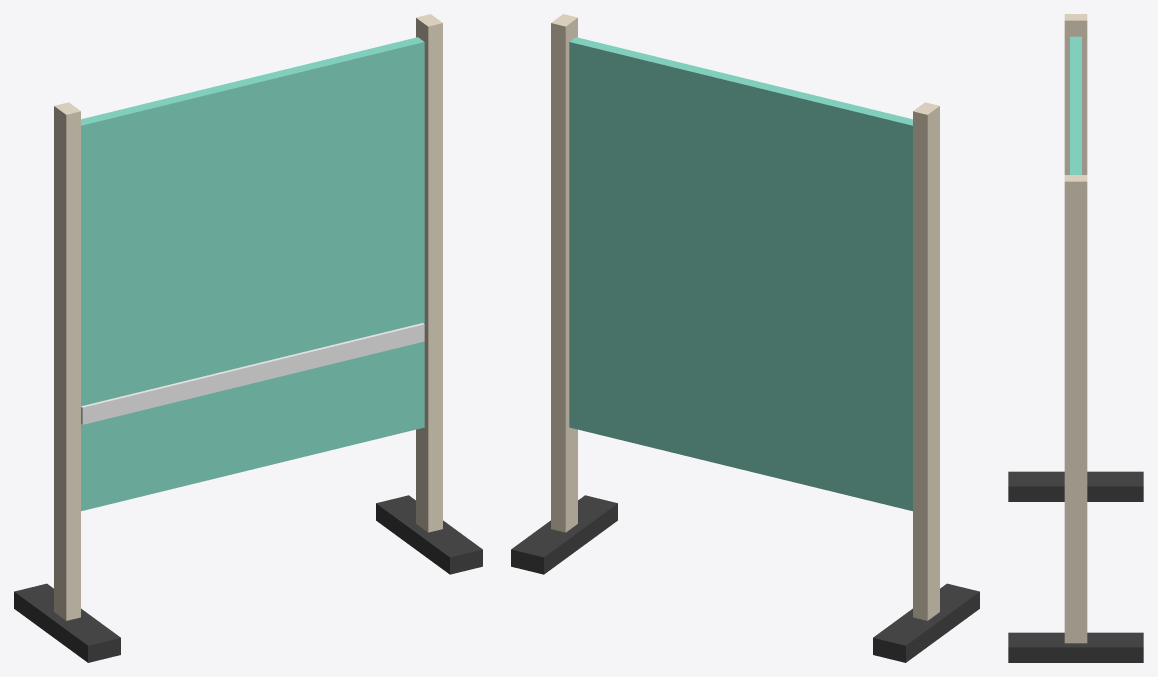
3 renders of one model, left to right at view 1: azimuth 30°, elevation 25°; view 2: azimuth 150°, elevation 25°; view 3: azimuth 270°, elevation 25°, orthographic. The views are drawn at different scales.
Parts seen in each view (by area): view 1: Frosted privacy panel, Privacy frame upright, Privacy frame upright.001, Privacy lower stripe, Privacy frame foot.001, Privacy frame foot; view 2: Frosted privacy panel, Privacy frame upright, Privacy frame upright.001, Privacy frame foot.001, Privacy frame foot; view 3: Privacy frame upright.001, Privacy frame foot.001, Privacy frame foot, Privacy frame upright, Frosted privacy panel.
Part boxes in pixels (<box>): Frosted privacy panel: <box>81,37,424,511</box>; Privacy frame upright: <box>54,102,80,620</box>; Privacy frame upright.001: <box>416,14,442,532</box>; Privacy lower stripe: <box>81,323,424,424</box>; Privacy frame foot.001: <box>376,495,482,574</box>; Privacy frame foot: <box>14,583,120,662</box>; Frosted privacy panel: <box>569,37,912,511</box>; Privacy frame upright: <box>913,102,939,620</box>; Privacy frame upright.001: <box>551,14,577,532</box>; Privacy frame foot.001: <box>511,495,617,574</box>; Privacy frame foot: <box>873,583,979,662</box>; Privacy frame upright.001: <box>1064,175,1087,643</box>; Privacy frame foot.001: <box>1008,632,1143,662</box>; Privacy frame foot: <box>1008,471,1143,501</box>; Privacy frame upright: <box>1064,14,1087,174</box>; Frosted privacy panel: <box>1070,36,1081,174</box>.
Size of the model in its own units: 120 by 152 by 39.
